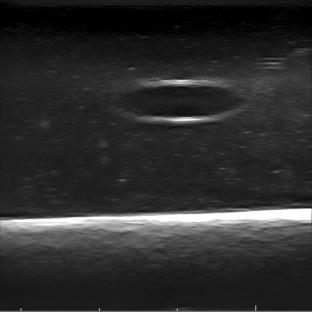vessel: (118, 79, 244, 125)
